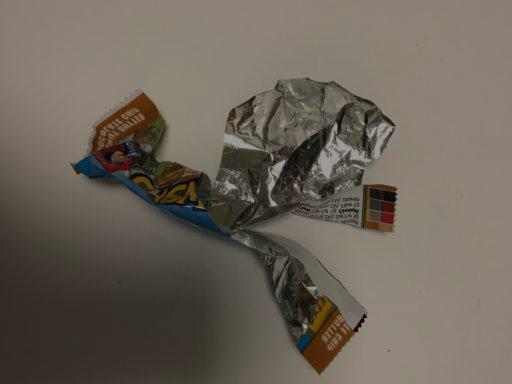trash: (65, 76, 399, 376)
